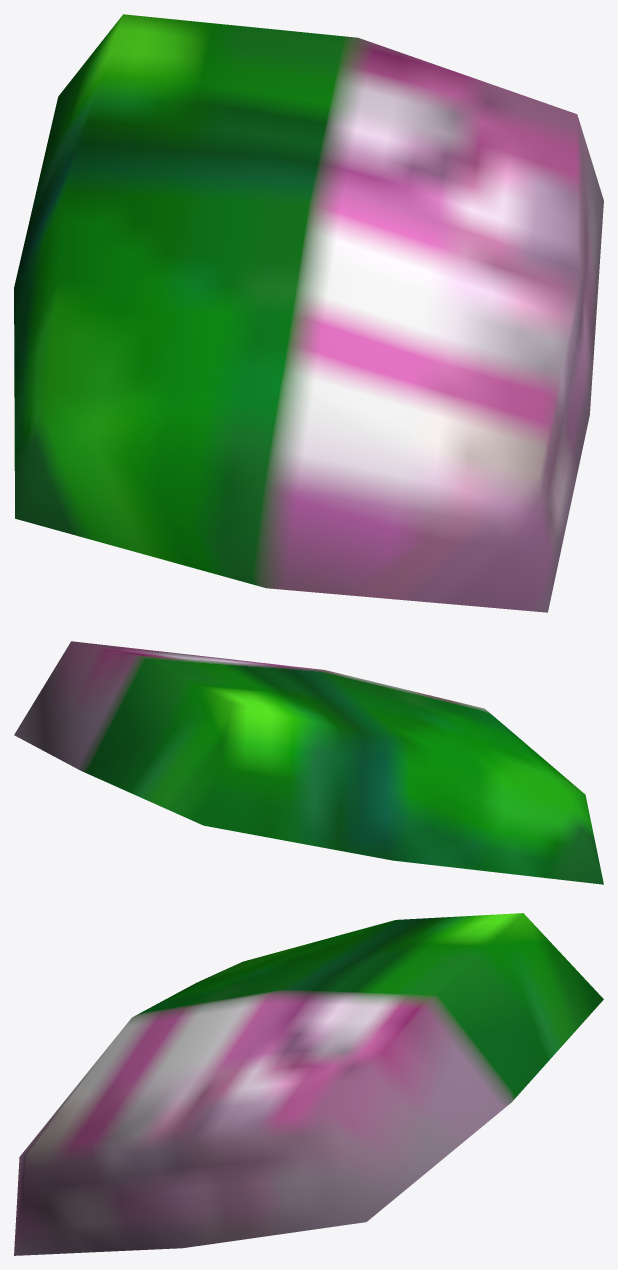
The model's file is fg_cloth_out.dae.
3 views of the same model, one above another, from view 1: azimuth 30°, elevation 25°; view 2: azimuth 150°, elevation 25°; view 3: azimuth 270°, elevation 25° (orthographic). The views are drawn at different scales.
Visible parts, largest first — view 1: fg_cloth_out; view 2: fg_cloth_out; view 3: fg_cloth_out.
Part boxes in pixels (<box>): fg_cloth_out: <box>14,14,603,612</box>; fg_cloth_out: <box>14,641,603,884</box>; fg_cloth_out: <box>14,913,603,1255</box>.
Size of the model in its own units: 18.76 by 10.26 by 18.05.
1 material, 1 textured.
